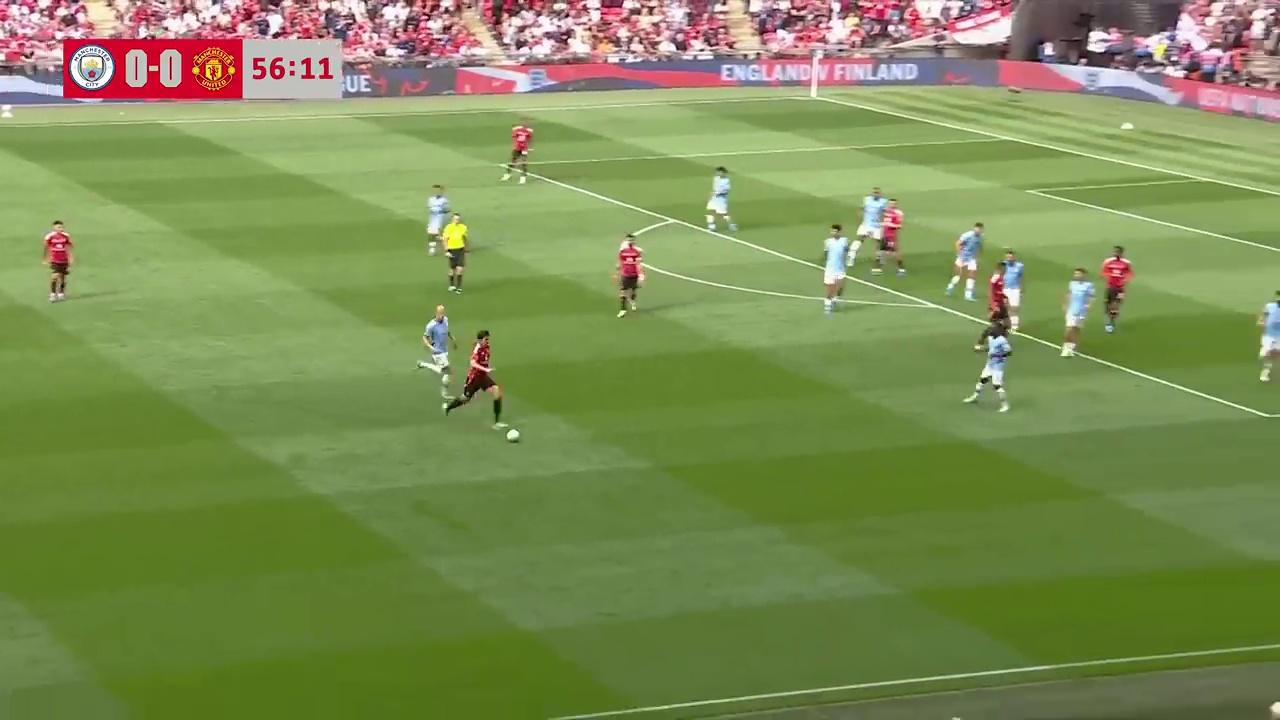ball: (505, 425, 521, 443)
player: (445, 330, 505, 425), (963, 320, 1013, 411), (944, 221, 984, 301), (1060, 268, 1095, 357), (1099, 246, 1134, 332), (419, 304, 456, 381), (41, 219, 75, 302), (612, 233, 644, 318), (872, 196, 906, 276), (992, 249, 1024, 331), (822, 224, 849, 315), (986, 258, 1017, 335), (704, 165, 736, 234), (1256, 291, 1280, 383), (855, 187, 885, 256), (501, 124, 531, 183), (426, 183, 450, 253)
referee: (441, 212, 469, 293)
